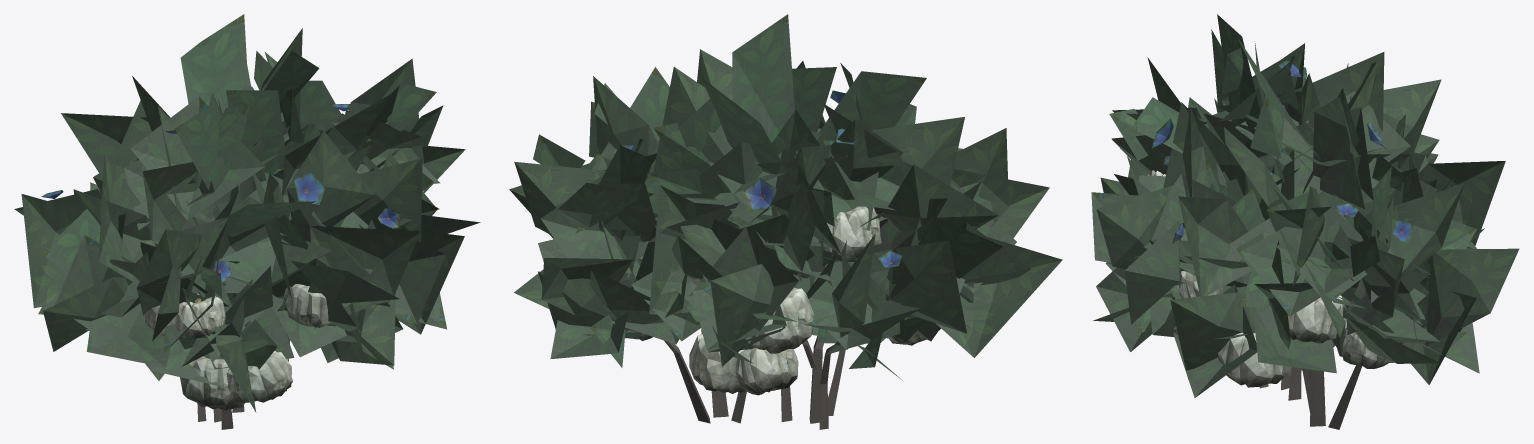
The model's file is P_YueDong03.obj.
3 views of the same model, side by side, from view 1: azimuth 30°, elevation 25°; view 2: azimuth 150°, elevation 25°; view 3: azimuth 270°, elevation 25° (orthographic).
Bounding box in the file's own units: 3.25 × 2.4 × 2.48.
Materials: 16 (16 with a texture image).
